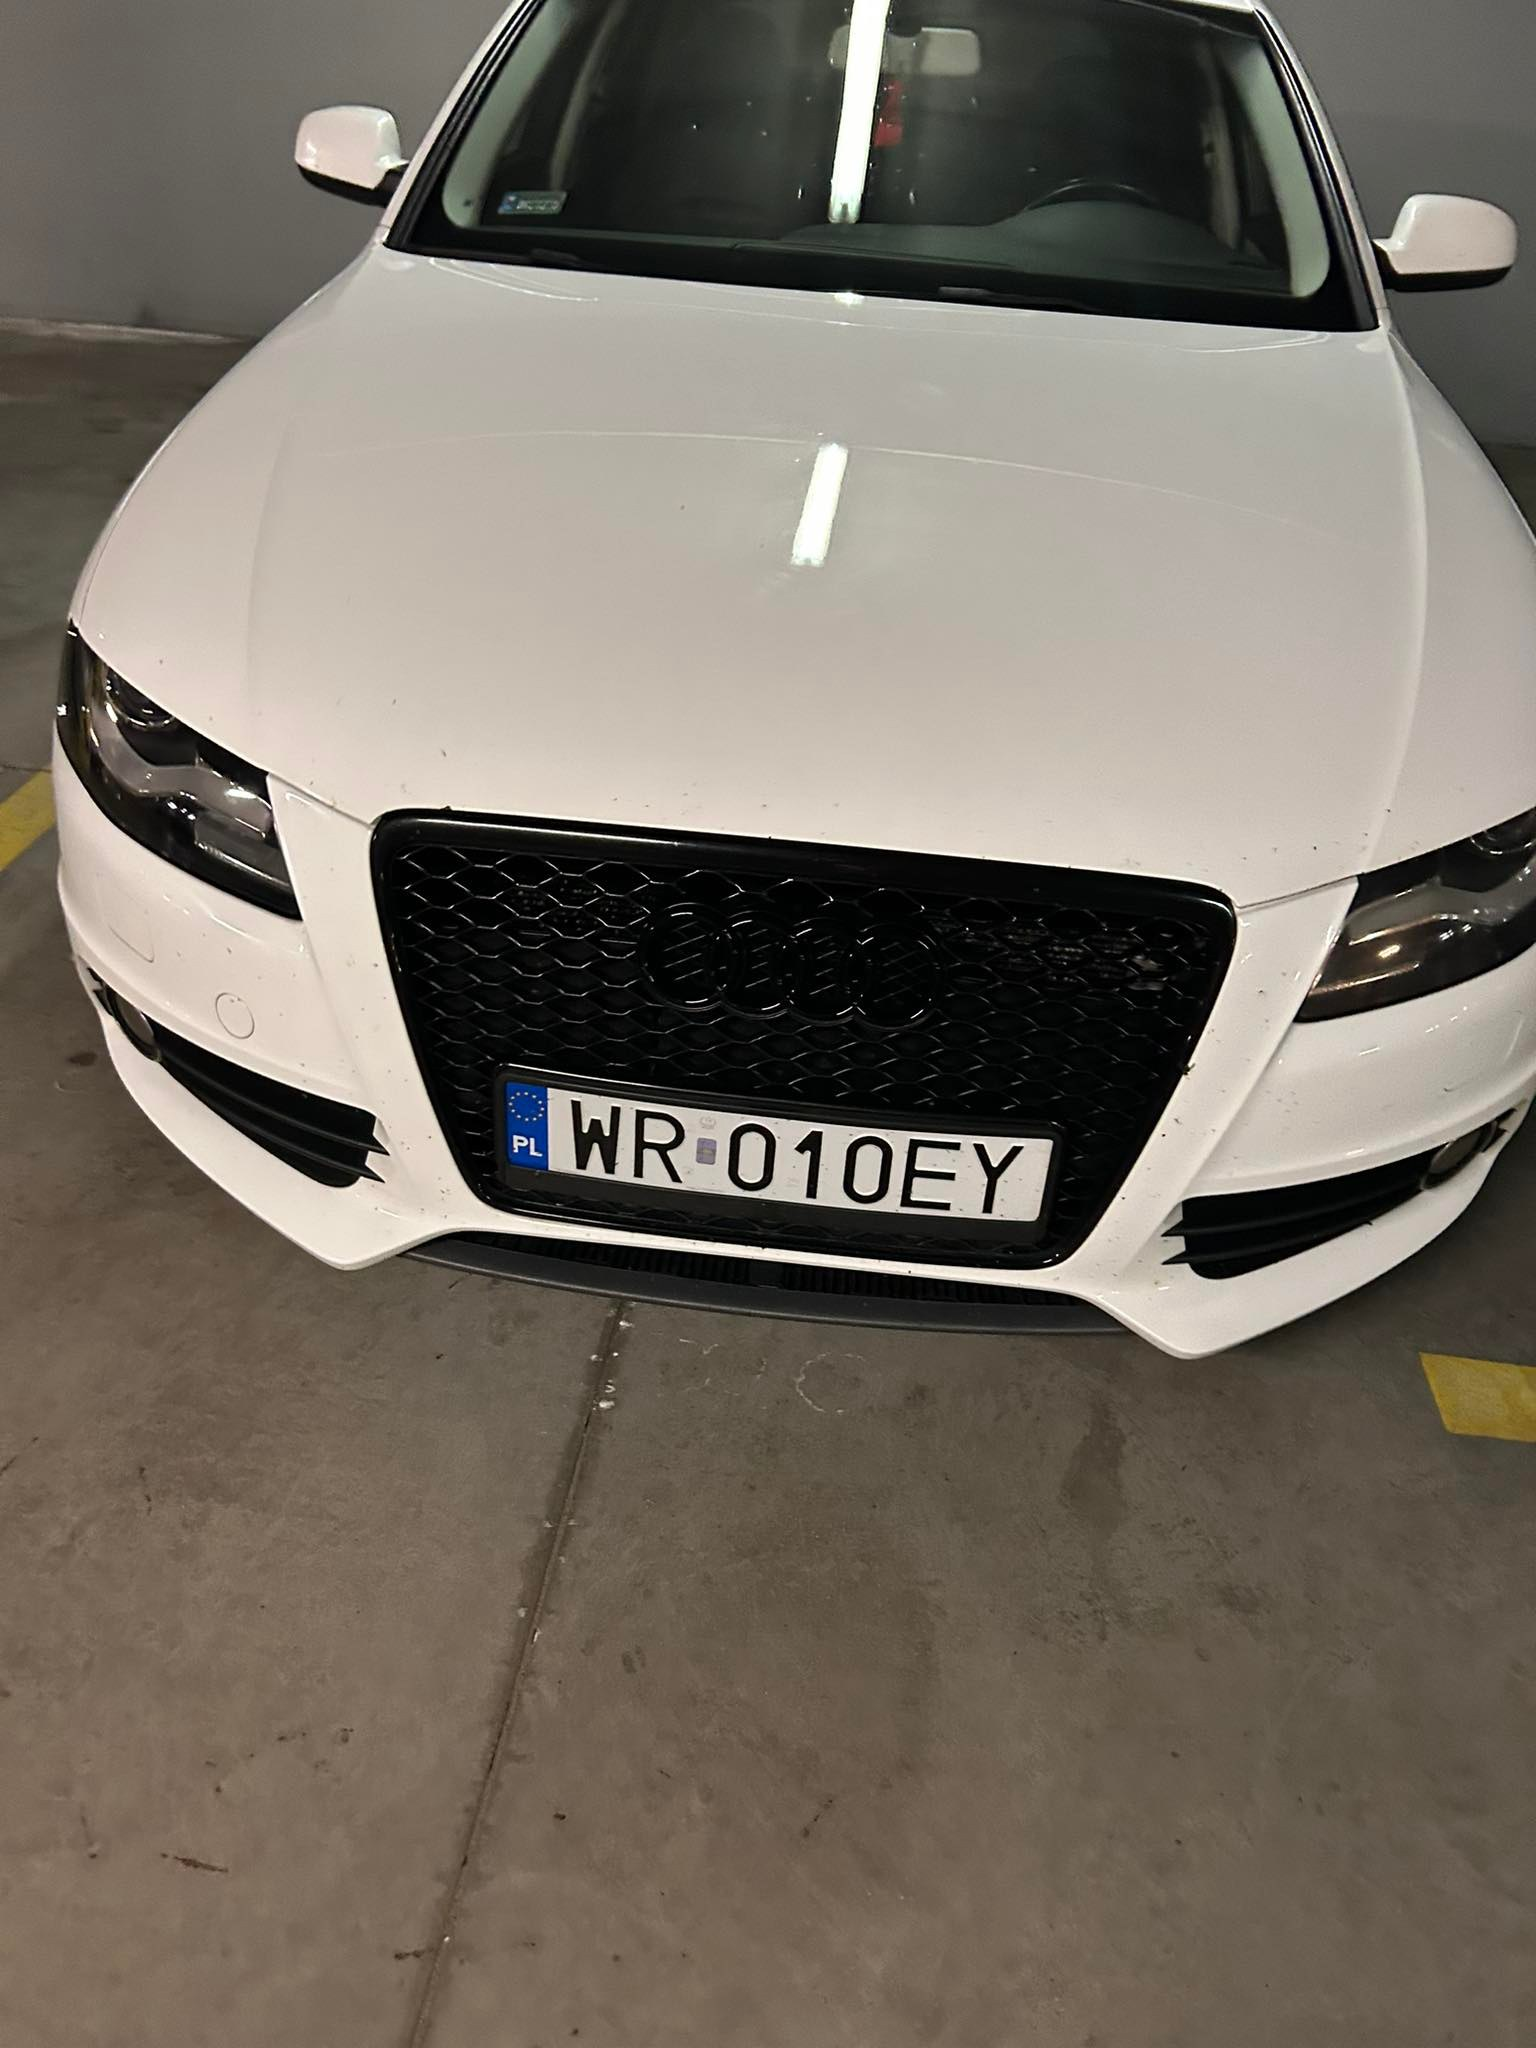number_plate: (505, 1063, 1054, 1239)
